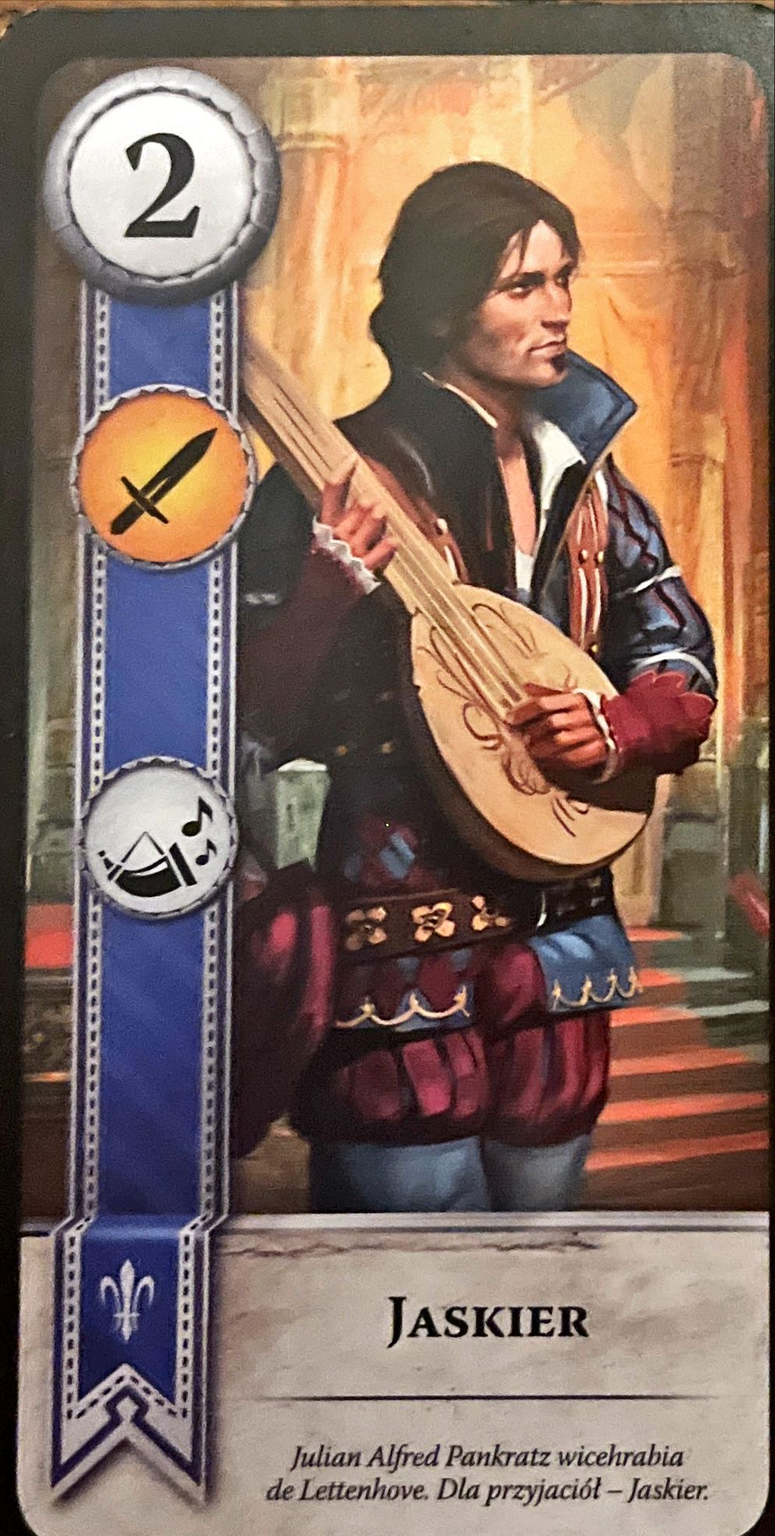2: (35, 62, 281, 306)
miecz: (68, 383, 258, 570)
rog: (71, 756, 238, 922)
